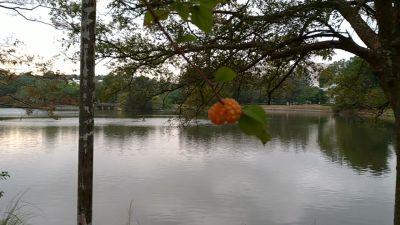eggs: (207, 96, 243, 127)
